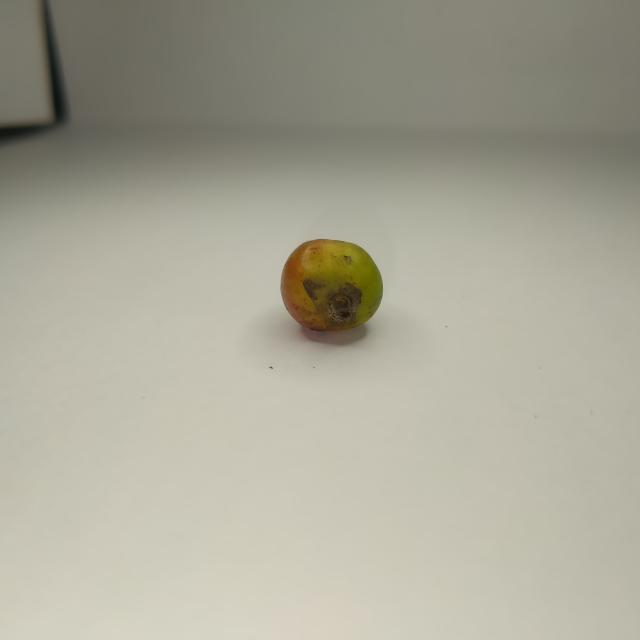Infectado: (281, 239, 382, 332)
